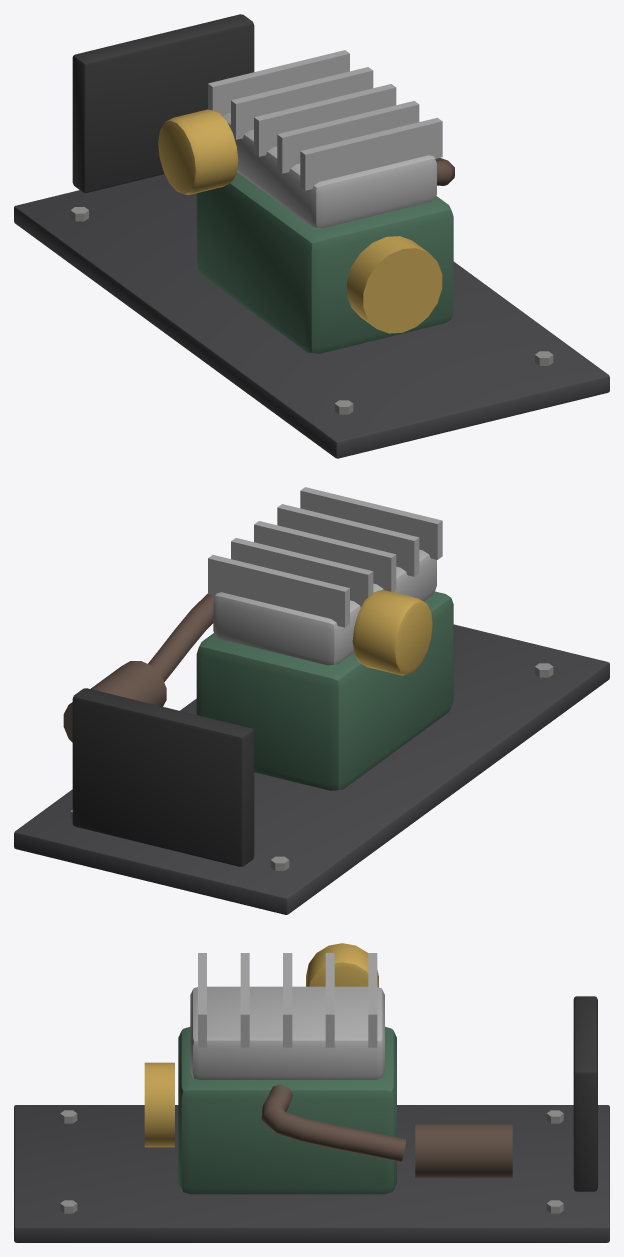
The model's file is engine_s.glb.
The picture shows the model from 3 angles, top to bottom: view 1: azimuth 30°, elevation 25°; view 2: azimuth 150°, elevation 25°; view 3: azimuth 270°, elevation 25°; orthographic projection. The views are drawn at different scales.
Parts seen in each view (by area): view 1: Part; view 2: Part; view 3: Part.
Boxes of the visible parts, x1,y1,x2,y2 form: Part: (14, 14, 609, 458); Part: (14, 487, 609, 914); Part: (14, 943, 609, 1242).
Size of the model in its own units: 0.4839 by 0.36 by 0.98.
